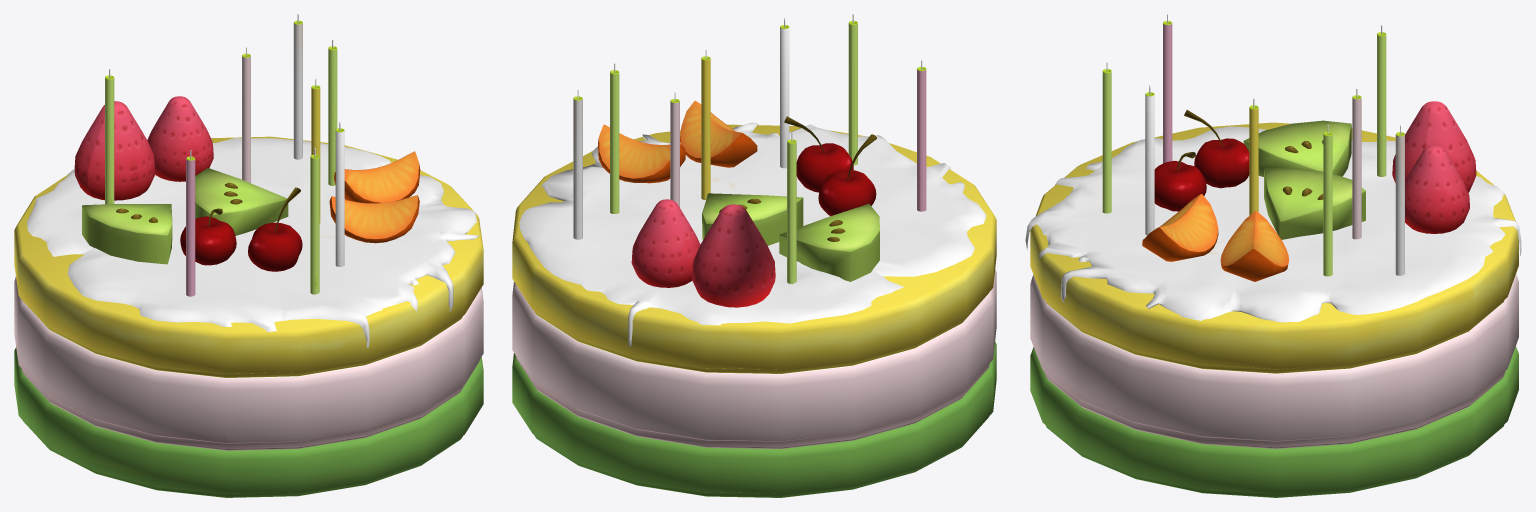
File: cake.FBX
3 views of the same model, side by side, from view 1: azimuth 30°, elevation 25°; view 2: azimuth 150°, elevation 25°; view 3: azimuth 270°, elevation 25° (orthographic). The views are drawn at different scales.
Visible parts, largest first — view 1: cake; view 2: cake; view 3: cake.
Part boxes in pixels (x1,y1,x2,y2): cake: (14,14,483,497); cake: (512,14,996,497); cake: (1025,14,1521,497).
Bounding box in the file's own units: 16.23 × 11.99 × 16.48.
Materials: 1 (1 with a texture image).
